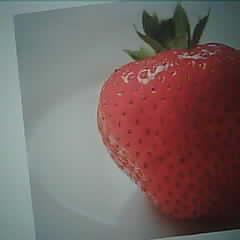straw-ripe: (97, 46, 240, 222)
